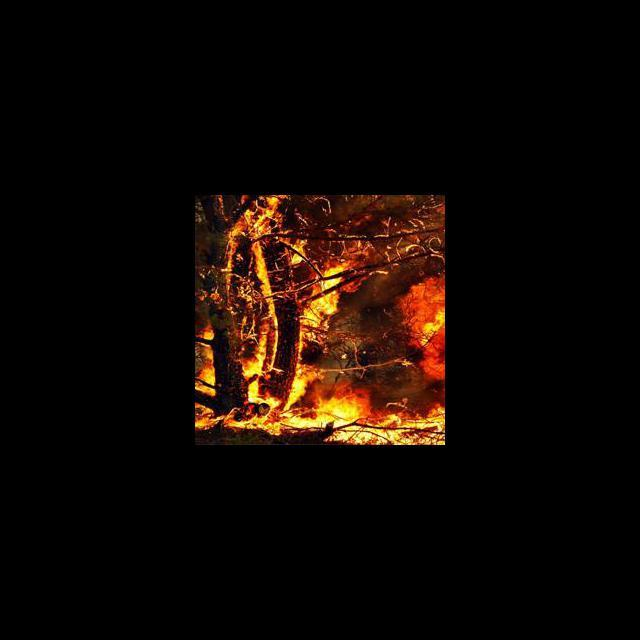Fire: (195, 202, 444, 444)
